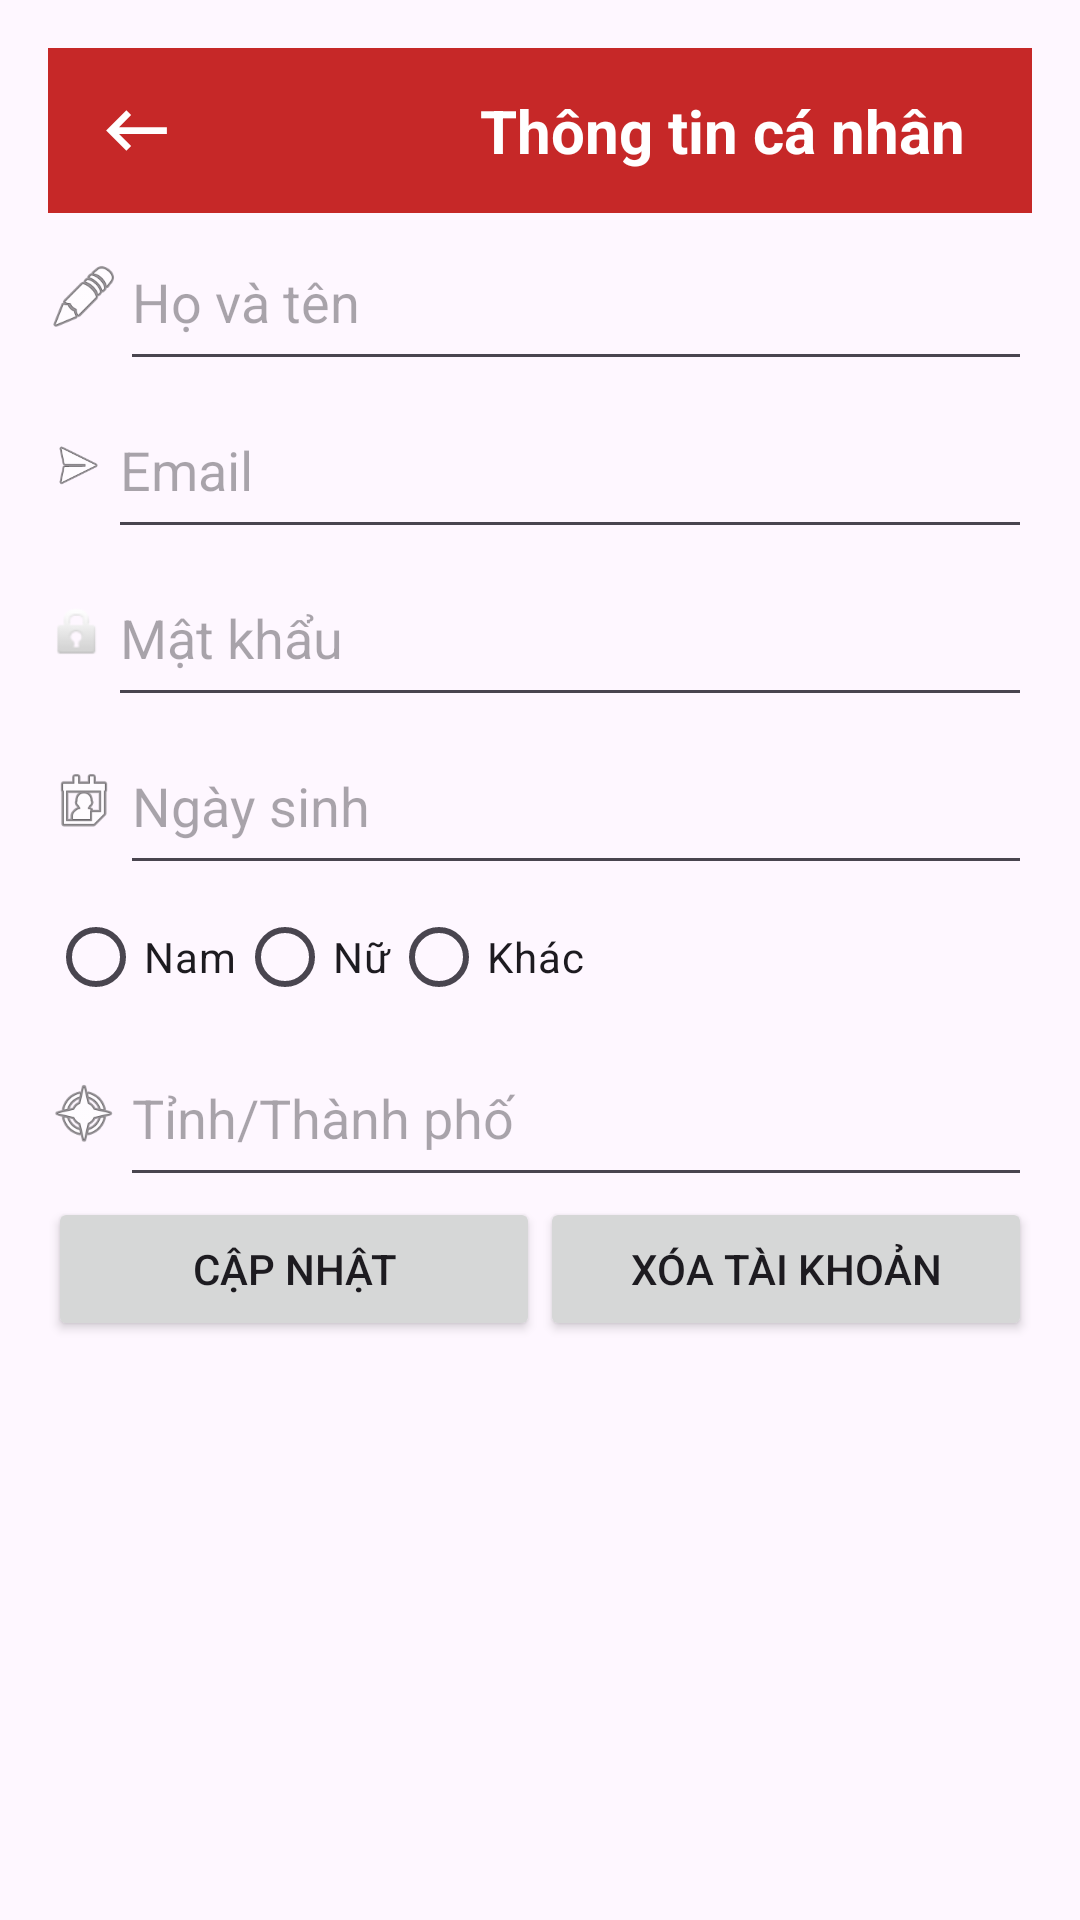

Where to tap for icons on this 1080px x 1920px app screen, as [x,y]:
calendar: [84,800]
compass: [83,1113]
edit: [83,296]
send: [78,465]
Trở lại: [136,130]
